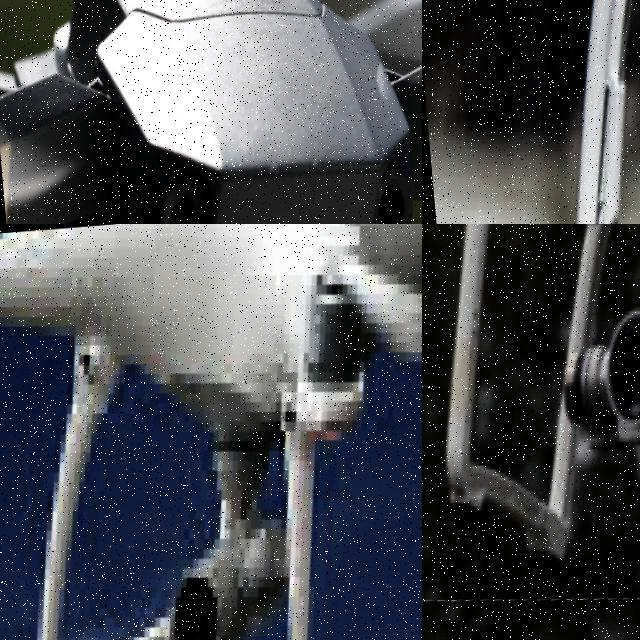0: (422, 224, 640, 629), (422, 0, 640, 224)
drone: (0, 224, 422, 640), (0, 0, 422, 224)
